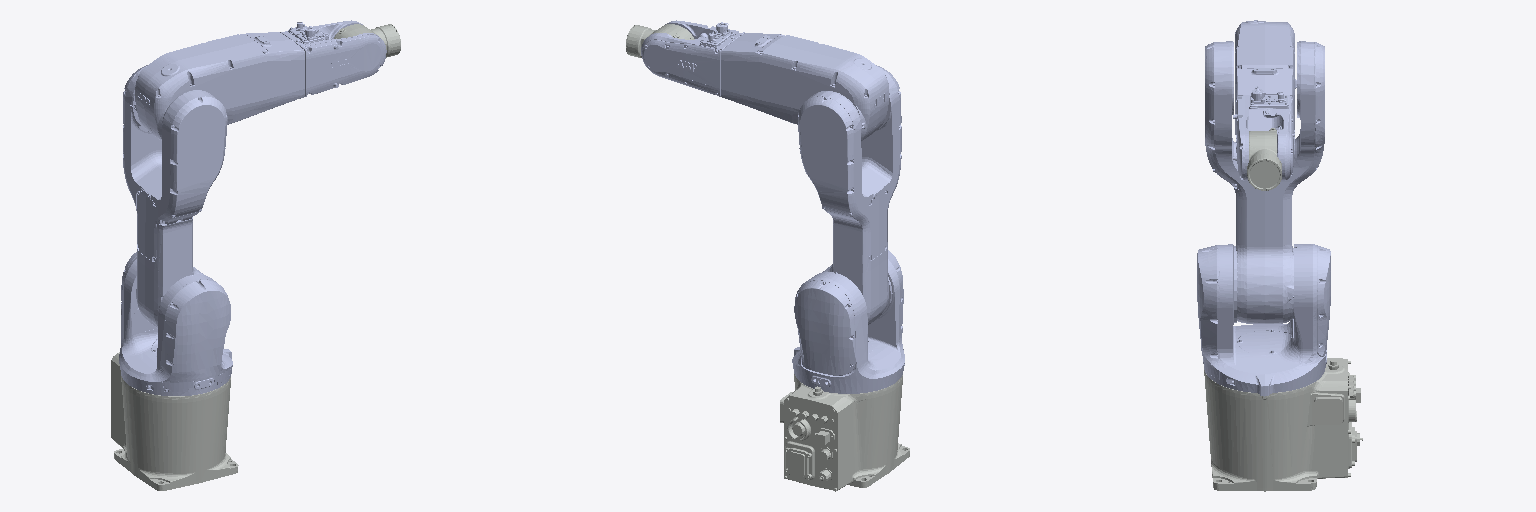
The robot description file, URDF, robot "Robot_arm_URDF":
<?xml version="1.0" encoding="utf-8" ?>
<!-- This URDF was automatically created by SolidWorks to URDF Exporter! Originally created by [author] ([email redacted]) 
     Commit Version: 1.6.0-4-g7f85cfe  Build Version: 1.6.7995.38578
     For more information, please see http://wiki.ros.org/sw_urdf_exporter -->
<robot name="Robot_arm_URDF">
    <link name="world" />
    <joint name="base_joint" type="fixed">
        <parent link="world" />
        <child link="base_link" />
        <origin rpy="0 0 0" xyz="0.0 0.0 0.17" />
    </joint>
    <link name="base_link">
        <inertial>
            <origin xyz="0.00047544 0.023635 0.11219" rpy="0 0 0" />
            <mass value="10.645" />
            <inertia ixx="0.099513" ixy="-0.00055015" ixz="-0.00016335" iyy="0.073792" iyz="0.0006449" izz="0.088938" />
        </inertial>
        <visual>
            <origin xyz="0 0 0" rpy="0 0 0" />
            <geometry>
                <mesh filename="package://Robot_arm_URDF/meshes/base_link.STL" />
            </geometry>
            <material name="">
                <color rgba="0.78431 0.8 0.78824 1" />
            </material>
        </visual>
        <collision>
            <origin xyz="0 0 0" rpy="0 0 0" />
            <geometry>
                <mesh filename="package://Robot_arm_URDF/meshes/base_link.STL" />
            </geometry>
        </collision>
    </link>
    <link name="Link_1">
        <inertial>
            <origin xyz="-0.0034017 0.078027 0.00019599" rpy="0 0 0" />
            <mass value="6.0468" />
            <inertia ixx="0.075561" ixy="0.00050896" ixz="4.1498E-05" iyy="0.055106" iyz="-0.00020684" izz="0.047881" />
        </inertial>
        <visual>
            <origin xyz="0 0 0" rpy="0 0 0" />
            <geometry>
                <mesh filename="package://Robot_arm_URDF/meshes/Link_1.STL" />
            </geometry>
            <material name="">
                <color rgba="0.79216 0.81961 0.93333 1" />
            </material>
        </visual>
        <collision>
            <origin xyz="0 0 0" rpy="0 0 0" />
            <geometry>
                <mesh filename="package://Robot_arm_URDF/meshes/Link_1.STL" />
            </geometry>
        </collision>
    </link>
    <joint name="Joint_1" type="revolute">
        <origin xyz="0 0 0.3991" rpy="-1.5707963267949 0 0" />
        <parent link="base_link" />
        <child link="Link_1" />
        <axis xyz="0 -1 0" />
        <limit lower="0" upper="3.142" effort="300" velocity="3" />
    </joint>
    <link name="Link_2">
        <inertial>
            <origin xyz="-0.012333 -0.21848 -0.001159" rpy="0 0 0" />
            <mass value="7.9736" />
            <inertia ixx="0.26696" ixy="0.0010804" ixz="5.9822E-05" iyy="0.043195" iyz="-0.00034187" izz="0.24472" />
        </inertial>
        <visual>
            <origin xyz="0 0 0" rpy="0 0 0" />
            <geometry>
                <mesh filename="package://Robot_arm_URDF/meshes/Link_2.STL" />
            </geometry>
            <material name="">
                <color rgba="0.79216 0.81961 0.93333 1" />
            </material>
        </visual>
        <collision>
            <origin xyz="0 0 0" rpy="0 0 0" />
            <geometry>
                <mesh filename="package://Robot_arm_URDF/meshes/Link_2.STL" />
            </geometry>
        </collision>
    </link>
    <joint name="Joint_2" type="revolute">
        <origin xyz="0 0 0" rpy="0 0 0" />
        <parent link="Link_1" />
        <child link="Link_2" />
        <axis xyz="0 0 1" />
        <limit lower="-1.57" upper="1.57" effort="200" velocity="3" />
    </joint>
    <link name="Link_3">
        <inertial>
            <origin xyz="0.035029 0.098118 0.00020435" rpy="0 0 0" />
            <mass value="6.4014" />
            <inertia ixx="0.072094" ixy="-0.0052118" ixz="4.3691E-05" iyy="0.020366" iyz="0.00012344" izz="0.078298" />
        </inertial>
        <visual>
            <origin xyz="0 0 0" rpy="0 0 0" />
            <geometry>
                <mesh filename="package://Robot_arm_URDF/meshes/Link_3.STL" />
            </geometry>
            <material name="">
                <color rgba="0.79216 0.81961 0.93333 1" />
            </material>
        </visual>
        <collision>
            <origin xyz="0 0 0" rpy="0 0 0" />
            <geometry>
                <mesh filename="package://Robot_arm_URDF/meshes/Link_3.STL" />
            </geometry>
        </collision>
    </link>
    <joint name="Joint_3" type="revolute">
        <origin xyz="0 -0.448 0" rpy="0 0 -1.5708" />
        <parent link="Link_2" />
        <child link="Link_3" />
        <axis xyz="0 0 -1" />
        <limit lower="0" upper="3.142" effort="200" velocity="3" />
    </joint>
    <link name="Link_4">
        <inertial>
            <origin xyz="0.0010953 -0.0016275 0.35925" rpy="0 0 0" />
            <mass value="1.7965" />
            <inertia ixx="0.0078911" ixy="1.2653E-06" ixz="6.0584E-05" iyy="0.0073524" iyz="0.00017516" izz="0.0037469" />
        </inertial>
        <visual>
            <origin xyz="0 0 0" rpy="0 0 0" />
            <geometry>
                <mesh filename="package://Robot_arm_URDF/meshes/Link_4.STL" />
            </geometry>
            <material name="">
                <color rgba="0.79216 0.81961 0.93333 1" />
            </material>
        </visual>
        <collision>
            <origin xyz="0 0 0" rpy="0 0 0" />
            <geometry>
                <mesh filename="package://Robot_arm_URDF/meshes/Link_4.STL" />
            </geometry>
        </collision>
    </link>
    <joint name="Joint_4" type="revolute">
        <origin xyz="0.041973 0 0" rpy="-1.5708 0 0" />
        <parent link="Link_3" />
        <child link="Link_4" />
        <axis xyz="0 0 -1" />
        <limit lower="0" upper="3.142" effort="200" velocity="3" />
    </joint>
    <link name="Link_5">
        <inertial>
            <origin xyz="5.4911E-05 0.017848 -0.0024285" rpy="0 0 0" />
            <mass value="0.57863" />
            <inertia ixx="0.00099796" ixy="1.443E-06" ixz="-5.6356E-07" iyy="0.00044316" iyz="-2.259E-05" izz="0.0011373" />
        </inertial>
        <visual>
            <origin xyz="0 0 0" rpy="0 0 0" />
            <geometry>
                <mesh filename="package://Robot_arm_URDF/meshes/Link_5.STL" />
            </geometry>
            <material name="">
                <color rgba="0.78039 0.8 0.78824 1" />
            </material>
        </visual>
        <collision>
            <origin xyz="0 0 0" rpy="0 0 0" />
            <geometry>
                <mesh filename="package://Robot_arm_URDF/meshes/Link_5.STL" />
            </geometry>
        </collision>
    </link>
    <joint name="Joint_5" type="revolute">
        <origin xyz="0 1.3927E-05 0.451" rpy="1.5708 0.0061324 0" />
        <parent link="Link_4" />
        <child link="Link_5" />
        <axis xyz="0 0 -1" />
        <limit lower="-3.142" upper="0" effort="200" velocity="3" />
    </joint>
    <transmission name="link_1_trans">
        <type>transmission_interface/SimpleTransmission</type>
        <joint name="Joint_1">
            <hardwareInterface>hardware_interface/PositionJointInterface</hardwareInterface>
        </joint>
        <actuator name="link_1_motor">
            <hardwareInterface>hardware_interface/PositionJointInterface</hardwareInterface>
            <mechanicalReduction>1</mechanicalReduction>
        </actuator>
    </transmission>
    <transmission name="link_2_trans">
        <type>transmission_interface/SimpleTransmission</type>
        <joint name="Joint_2">
            <hardwareInterface>hardware_interface/PositionJointInterface</hardwareInterface>
        </joint>
        <actuator name="link_2_motor">
            <hardwareInterface>hardware_interface/PositionJointInterface</hardwareInterface>
            <mechanicalReduction>1</mechanicalReduction>
        </actuator>
    </transmission>
    <transmission name="link_3_trans">
        <type>transmission_interface/SimpleTransmission</type>
        <joint name="Joint_3">
            <hardwareInterface>hardware_interface/PositionJointInterface</hardwareInterface>
        </joint>
        <actuator name="link_3_motor">
            <hardwareInterface>hardware_interface/PositionJointInterface</hardwareInterface>
            <mechanicalReduction>1</mechanicalReduction>
        </actuator>
    </transmission>
    <transmission name="link_4_trans">
        <type>transmission_interface/SimpleTransmission</type>
        <joint name="Joint_4">
            <hardwareInterface>hardware_interface/PositionJointInterface</hardwareInterface>
        </joint>
        <actuator name="link_4_motor">
            <hardwareInterface>hardware_interface/PositionJointInterface</hardwareInterface>
            <mechanicalReduction>1</mechanicalReduction>
        </actuator>
    </transmission>
    <transmission name="link_5_trans">
        <type>transmission_interface/SimpleTransmission</type>
        <joint name="Joint_5">
            <hardwareInterface>hardware_interface/PositionJointInterface</hardwareInterface>
        </joint>
        <actuator name="link_5_motor">
            <hardwareInterface>hardware_interface/PositionJointInterface</hardwareInterface>
            <mechanicalReduction>1</mechanicalReduction>
        </actuator>
    </transmission>
    <gazebo>
        <plugin name="control" filename="libgazebo_ros_control.so">
            <robotNamespace>/</robotNamespace>
        </plugin>
        <plugin name="gazebo_ros_control" filename="libgazebo_ros_control.so">
            <robotNamespace>/</robotNamespace>
        </plugin>
    </gazebo>
    <gazebo reference="link_1">
        <selfCollide>true</selfCollide>
    </gazebo>
    <gazebo reference="link_2">
        <selfCollide>true</selfCollide>
    </gazebo>
    <gazebo reference="link_3">
        <selfCollide>true</selfCollide>
    </gazebo>
    <gazebo reference="link_4">
        <selfCollide>true</selfCollide>
    </gazebo>
    <gazebo reference="link_5">
        <selfCollide>true</selfCollide>
    </gazebo>
</robot>

--- Facts derived from the render (not from the file) ---
Views: 3 orthographic renders of the robot side by side, from view 1: azimuth 30°, elevation 25°; view 2: azimuth 150°, elevation 25°; view 3: azimuth 270°, elevation 25°.
Model Robot_arm_URDF with 7 links and 6 joints (5 revolute, 1 fixed), rooted at world, posed all joints at 0.
Visible links, largest first — view 1: Link_2, Link_1, Link_3, base_link, Link_4, Link_5; view 2: Link_2, Link_1, base_link, Link_3, Link_4, Link_5; view 3: Link_2, base_link, Link_1, Link_3, Link_4, Link_5.
Link boxes in pixels (x1=…): Link_2: x1=123, y1=65, x2=227, y2=328; Link_1: x1=119, y1=252, x2=232, y2=395; Link_3: x1=134, y1=32, x2=304, y2=140; base_link: x1=111, y1=352, x2=238, y2=490; Link_4: x1=280, y1=20, x2=386, y2=96; Link_5: x1=334, y1=24, x2=400, y2=57; Link_2: x1=798, y1=65, x2=901, y2=325; Link_1: x1=792, y1=250, x2=904, y2=393; base_link: x1=780, y1=374, x2=909, y2=491; Link_3: x1=721, y1=33, x2=889, y2=141; Link_4: x1=641, y1=20, x2=744, y2=96; Link_5: x1=626, y1=24, x2=694, y2=57; Link_2: x1=1205, y1=41, x2=1324, y2=323; base_link: x1=1204, y1=358, x2=1362, y2=491; Link_1: x1=1197, y1=244, x2=1330, y2=396; Link_3: x1=1235, y1=20, x2=1296, y2=134; Link_4: x1=1233, y1=86, x2=1294, y2=180; Link_5: x1=1247, y1=128, x2=1281, y2=190.
Size in the robot's own frame: 0.666 by 0.3259 by 0.9776 metres.
Meshes: 6 distinct files referenced, 6 mesh visuals loaded (6 binary STL).